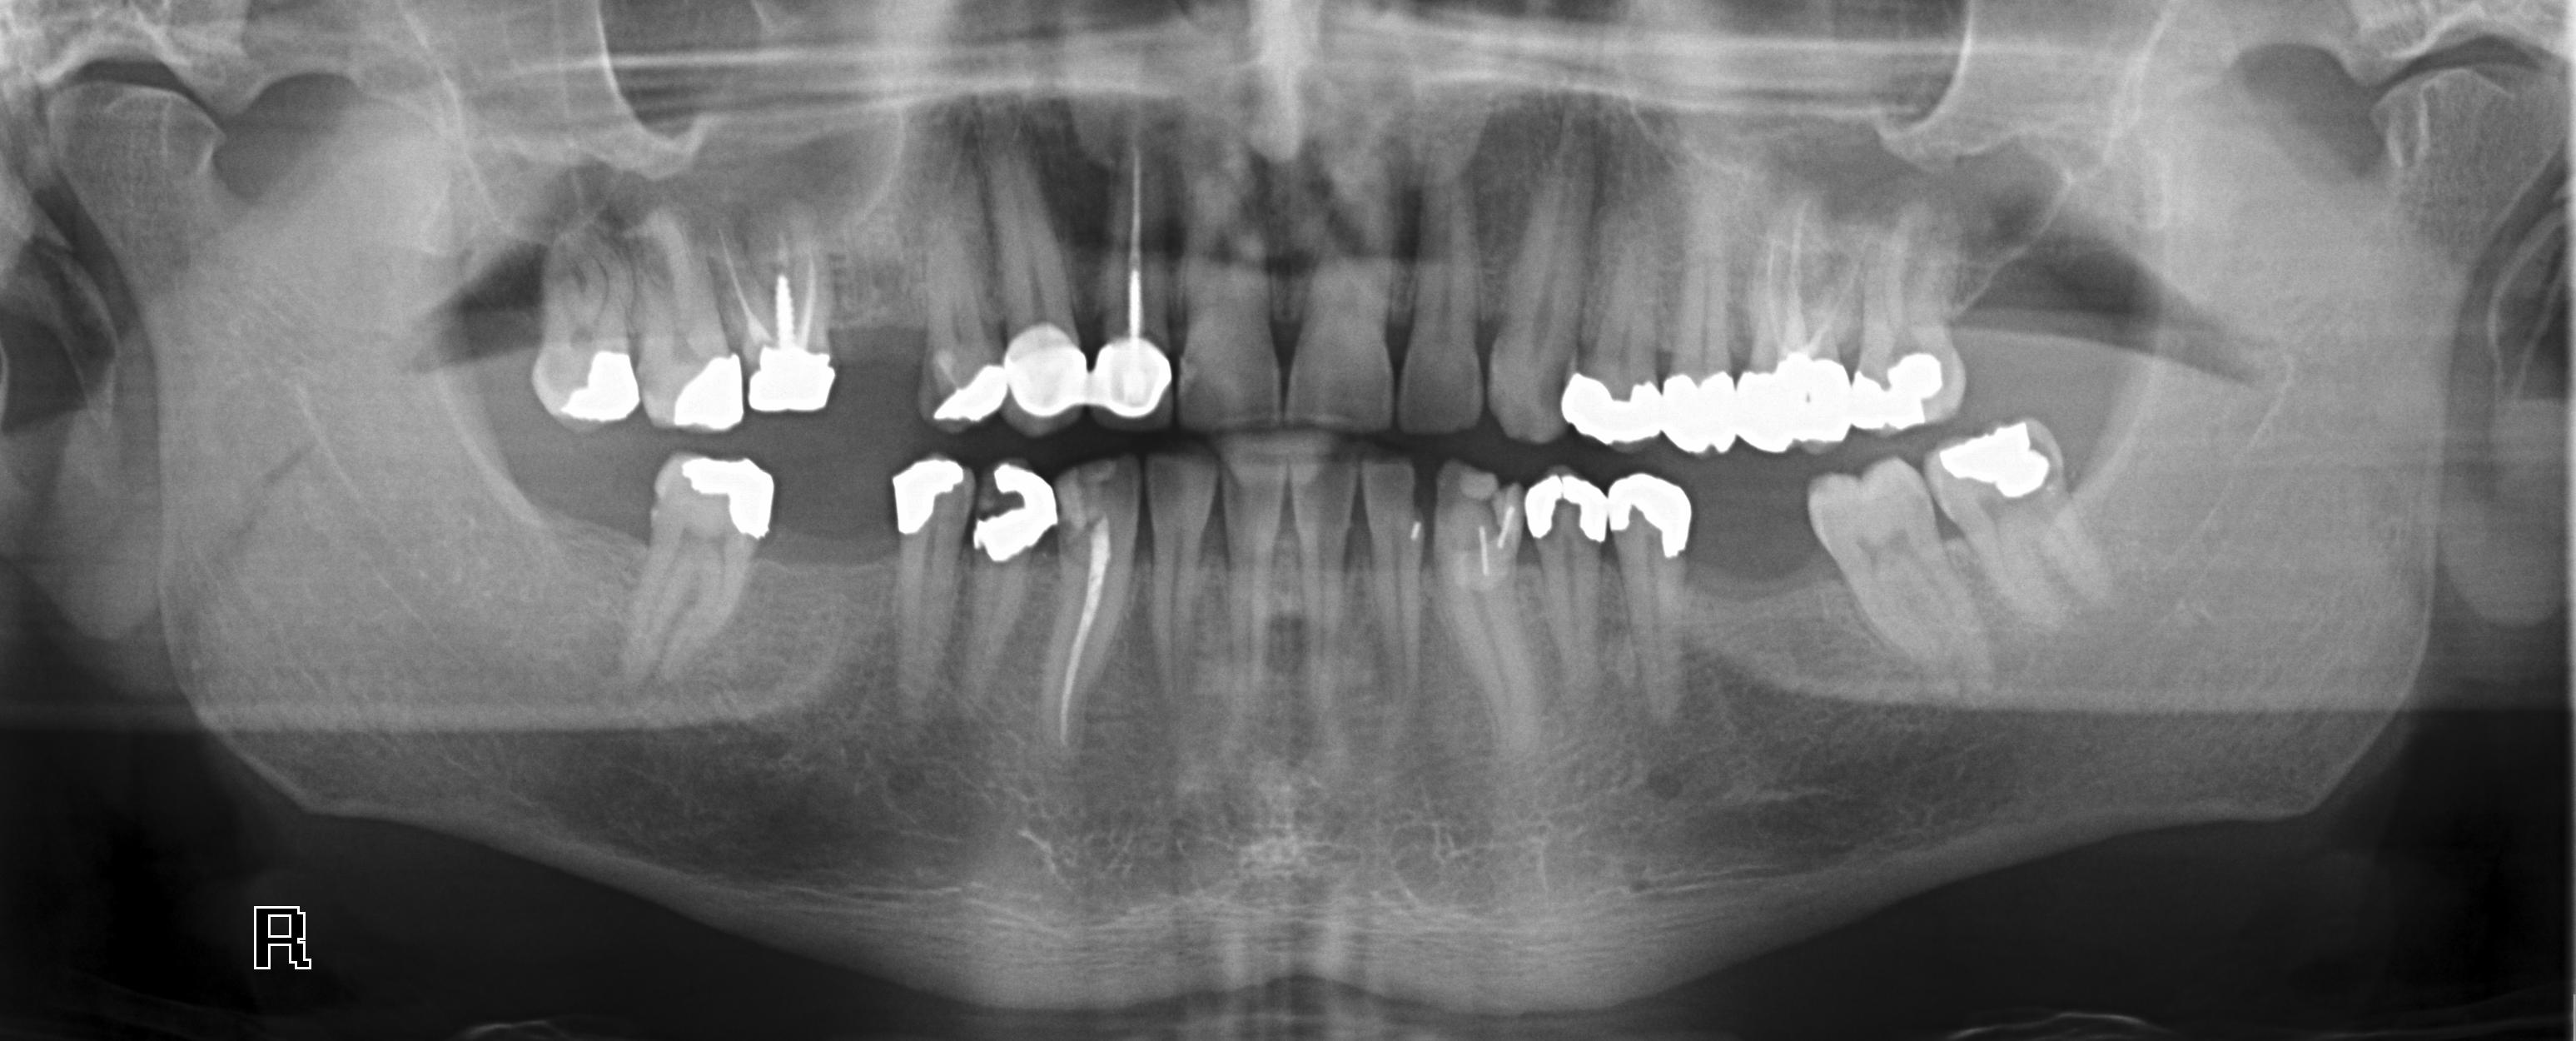Çürük: (1732, 357, 1866, 457), (1559, 359, 1664, 449), (1847, 349, 1952, 436), (1934, 423, 2040, 507), (685, 447, 779, 536), (1010, 327, 1092, 424), (1615, 470, 1702, 558), (1094, 335, 1173, 426), (976, 470, 1050, 564), (1664, 367, 1738, 457), (555, 349, 647, 421), (749, 342, 835, 413), (670, 347, 741, 431), (887, 459, 964, 533), (928, 357, 1005, 421), (1562, 464, 1615, 549), (1516, 470, 1561, 543)
Çürük Bölgesi: (974, 451, 1023, 526), (2027, 421, 2065, 492), (913, 362, 951, 426), (1548, 479, 1572, 567), (1559, 479, 1585, 541)
